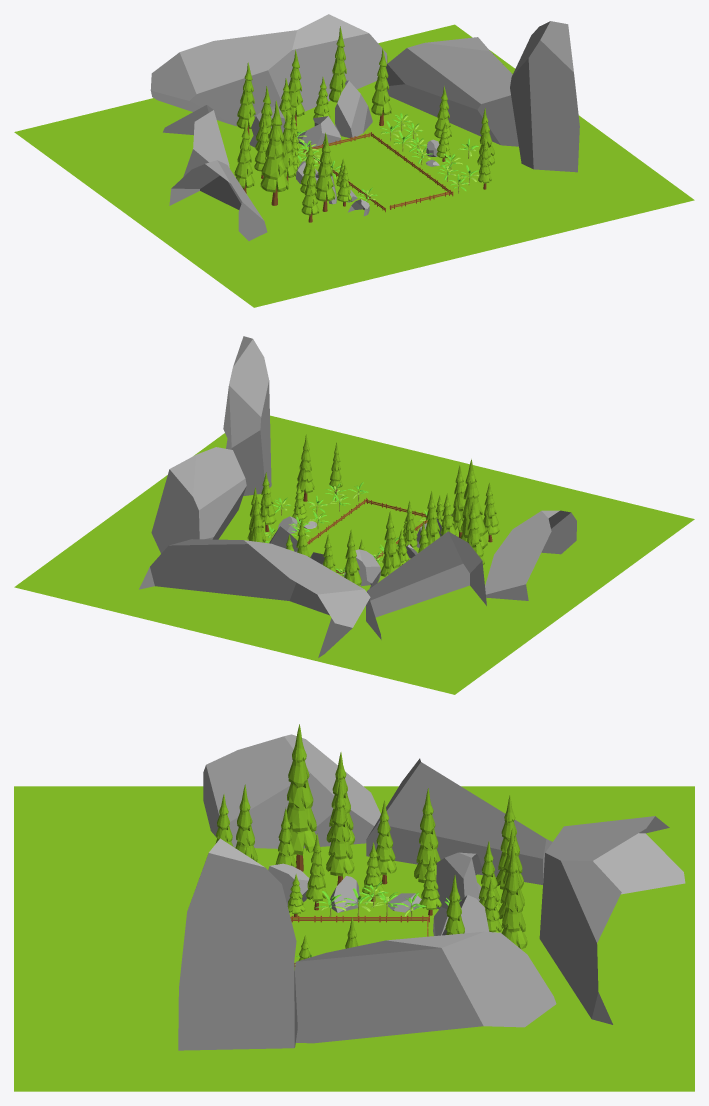
The model's file is worldThree.glb.
3 renders of one model, top to bottom at view 1: azimuth 30°, elevation 25°; view 2: azimuth 150°, elevation 25°; view 3: azimuth 270°, elevation 25°, orthographic. The views are drawn at different scales.
Visible parts, largest first — view 1: Banana Trunk.018; view 2: Banana Trunk.018; view 3: Banana Trunk.018.
Part boxes in pixels (x1,y1,x2,y2): Banana Trunk.018: [14, 14, 694, 307]; Banana Trunk.018: [14, 336, 694, 694]; Banana Trunk.018: [14, 724, 694, 1091].
Size of the model in its own units: 247 by 78.19 by 233.
